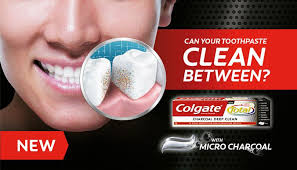colgate-medium: (171, 97, 269, 128)
